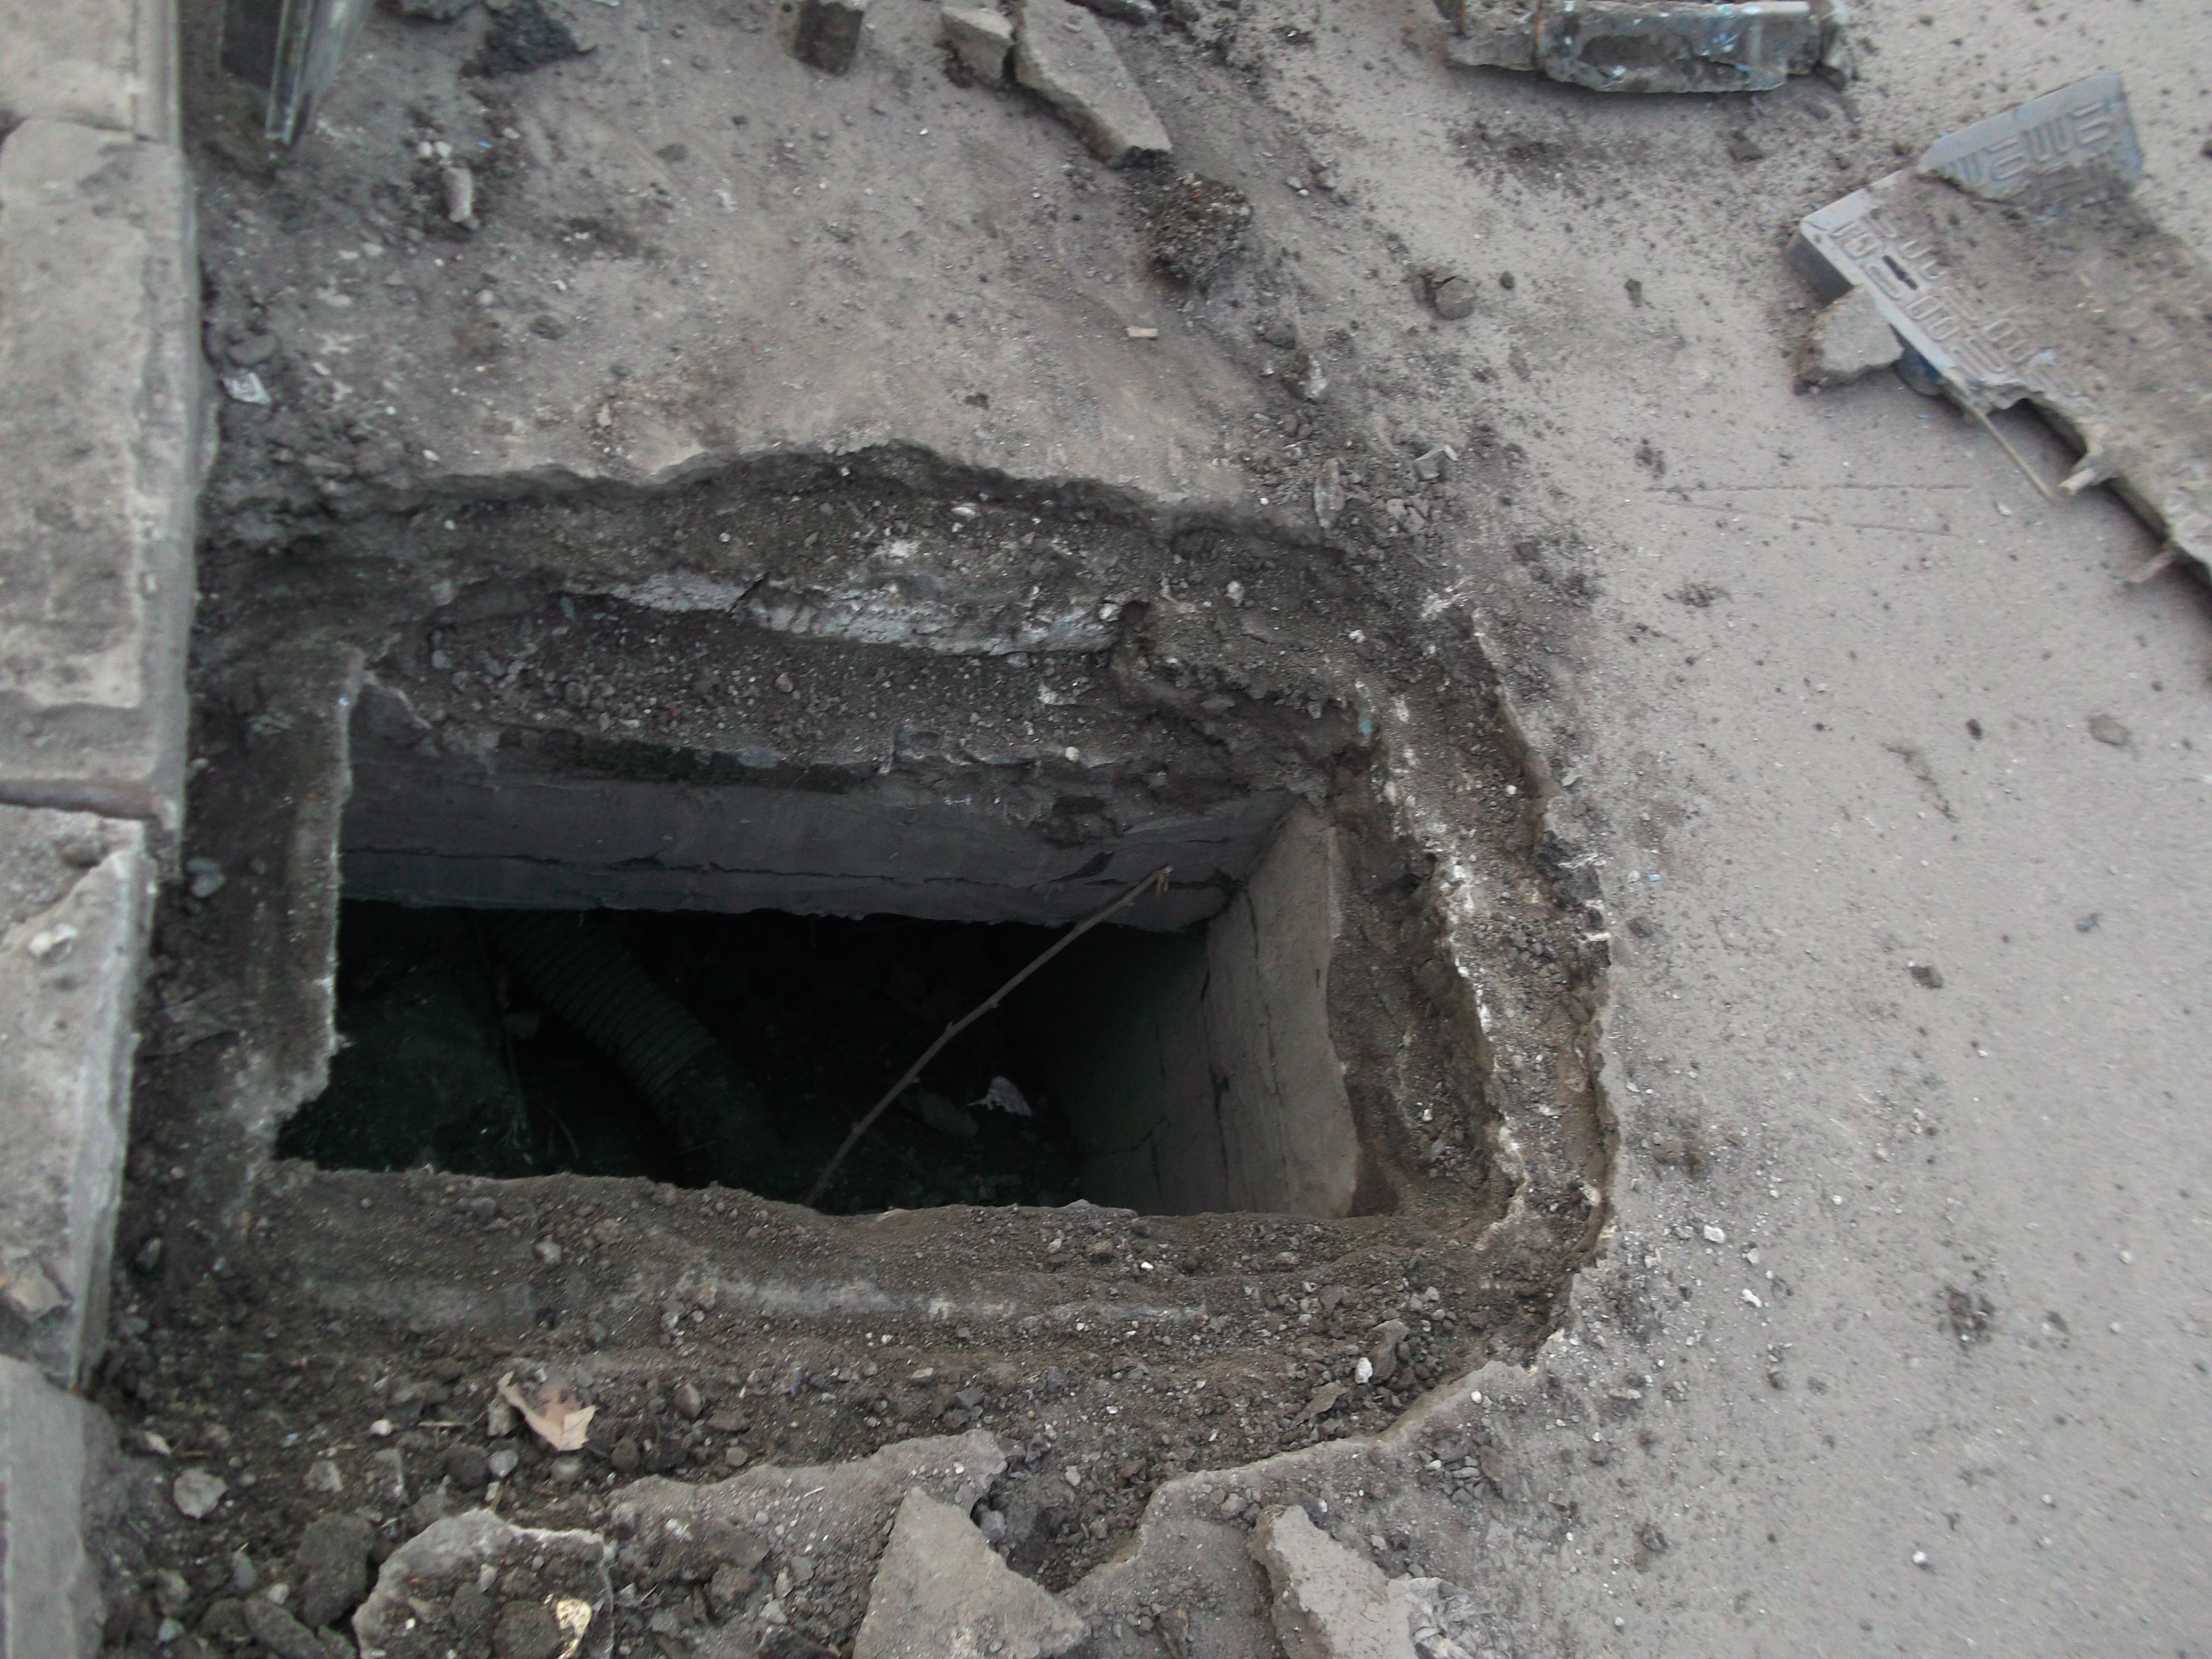lose: (260, 671, 1393, 1229)
